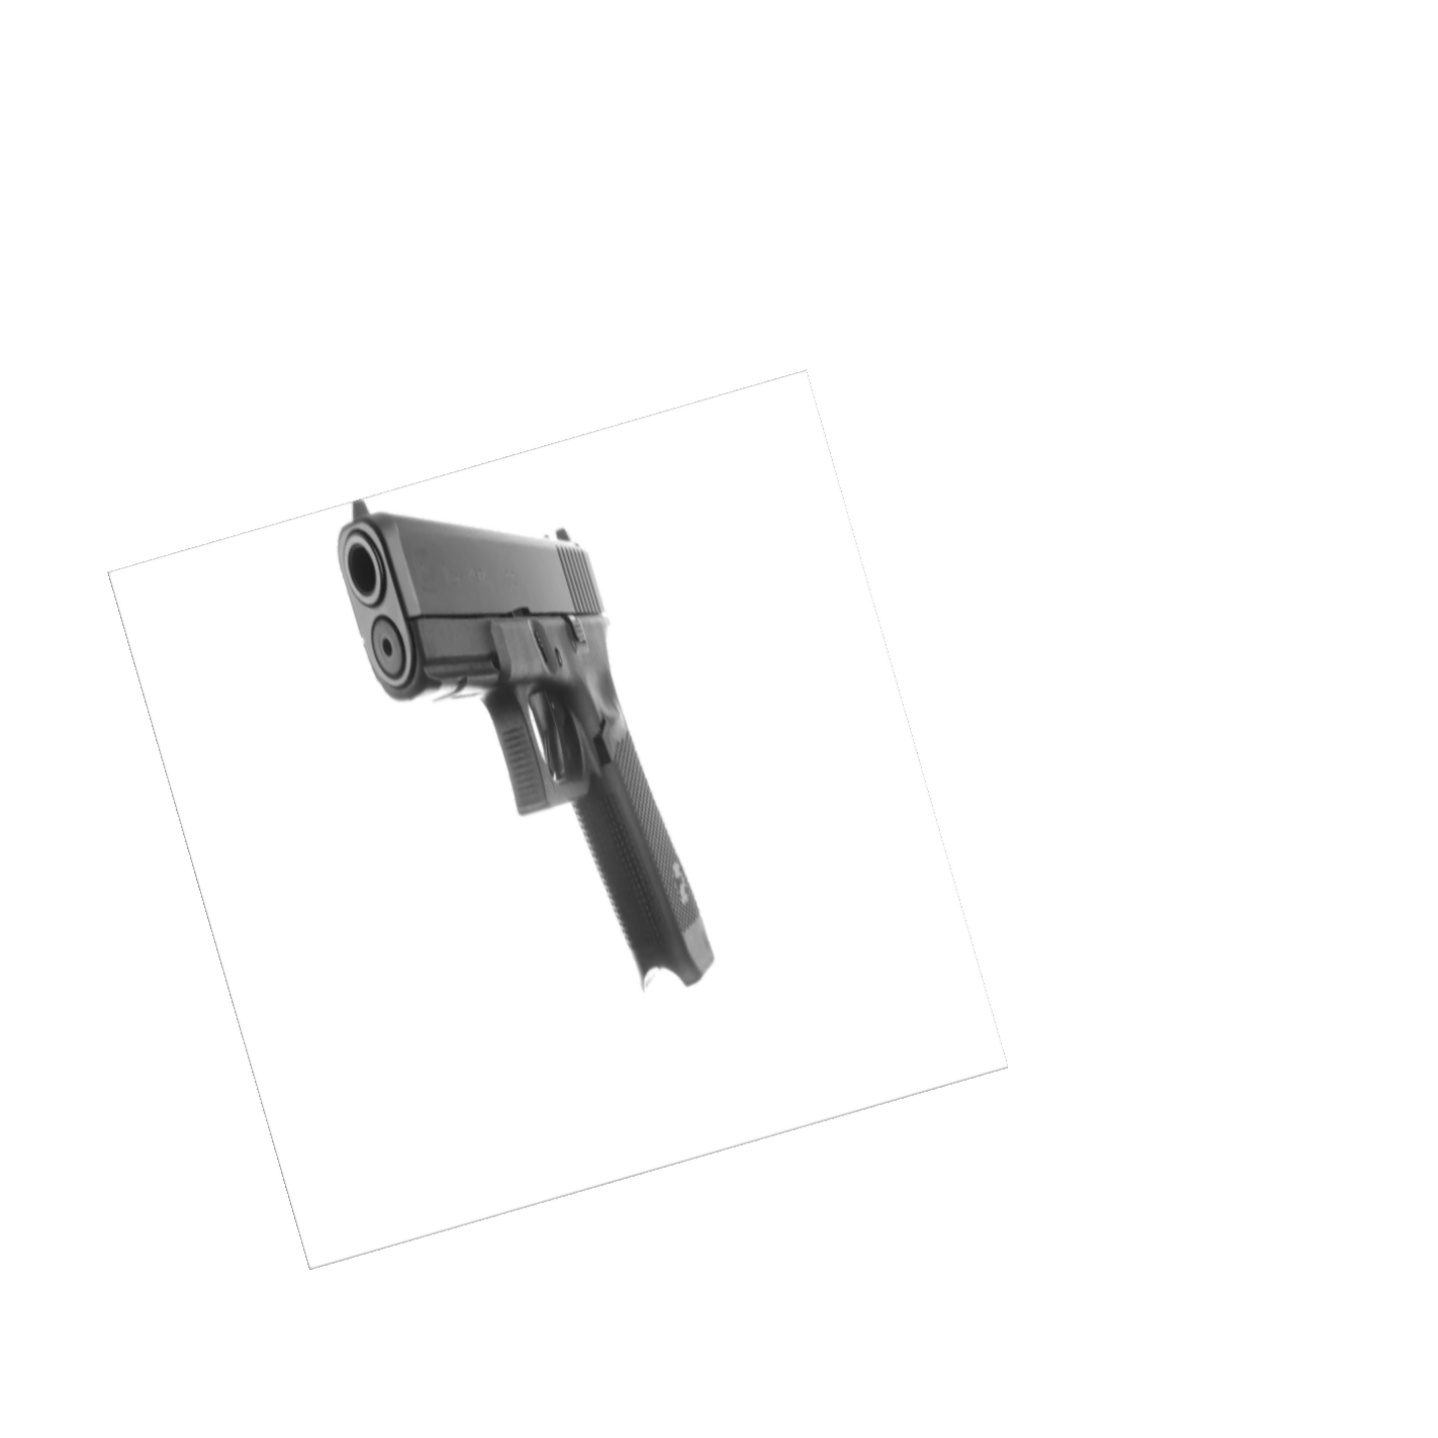gun: (334, 499, 715, 988)
